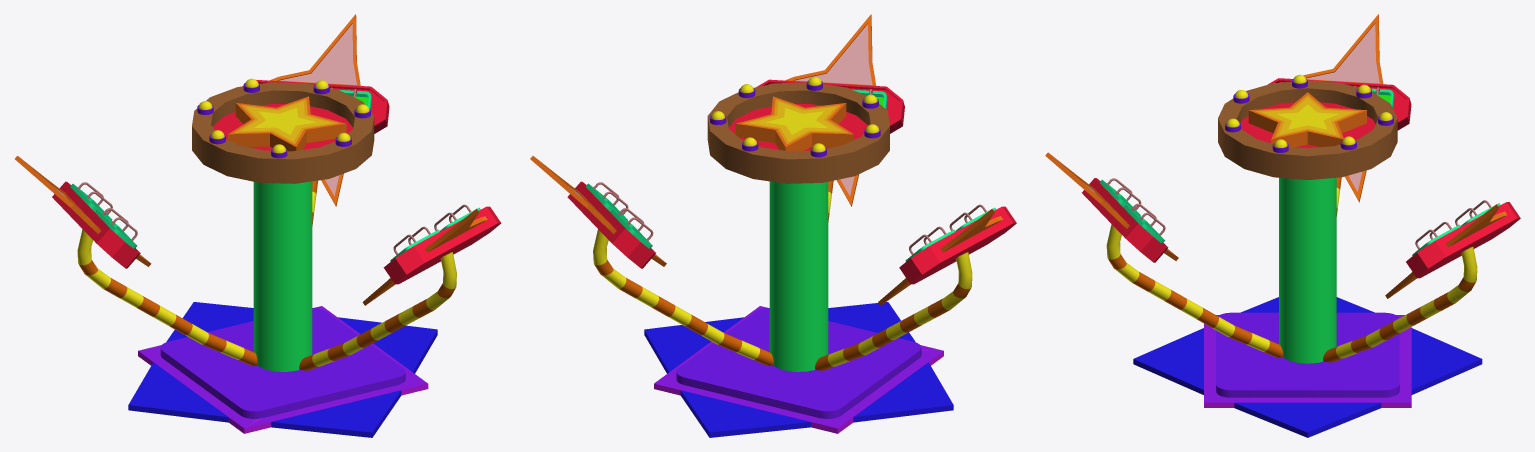
Rendered from PlaneRotate4 (1).fbx.
3 renders of one model, left to right at view 1: azimuth 30°, elevation 25°; view 2: azimuth 150°, elevation 25°; view 3: azimuth 270°, elevation 25°, orthographic. The views are drawn at different scales.
Visible parts, largest first — view 1: Plane, Circle.007, Circle.001; view 2: Plane, Circle.007, Circle.001; view 3: Plane, Circle.007, Circle.001.
Part boxes in pixels (x1,y1,x2,y2): Plane: (128, 82, 437, 437); Circle.007: (15, 14, 501, 370); Circle.001: (197, 78, 370, 158); Plane: (644, 82, 953, 437); Circle.007: (530, 14, 1016, 370); Circle.001: (710, 76, 880, 157); Plane: (1133, 80, 1482, 437); Circle.007: (1045, 14, 1520, 362); Circle.001: (1225, 74, 1393, 152).
Size of the model in its own units: 1573 by 976 by 1645.
Materials: 1 (1 with a texture image).
